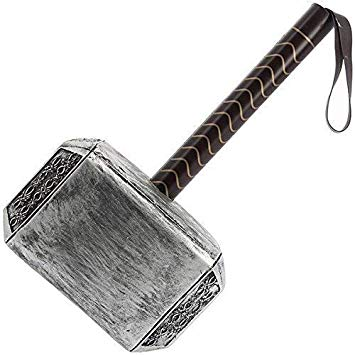THOR Hammer: (4, 9, 344, 344)
